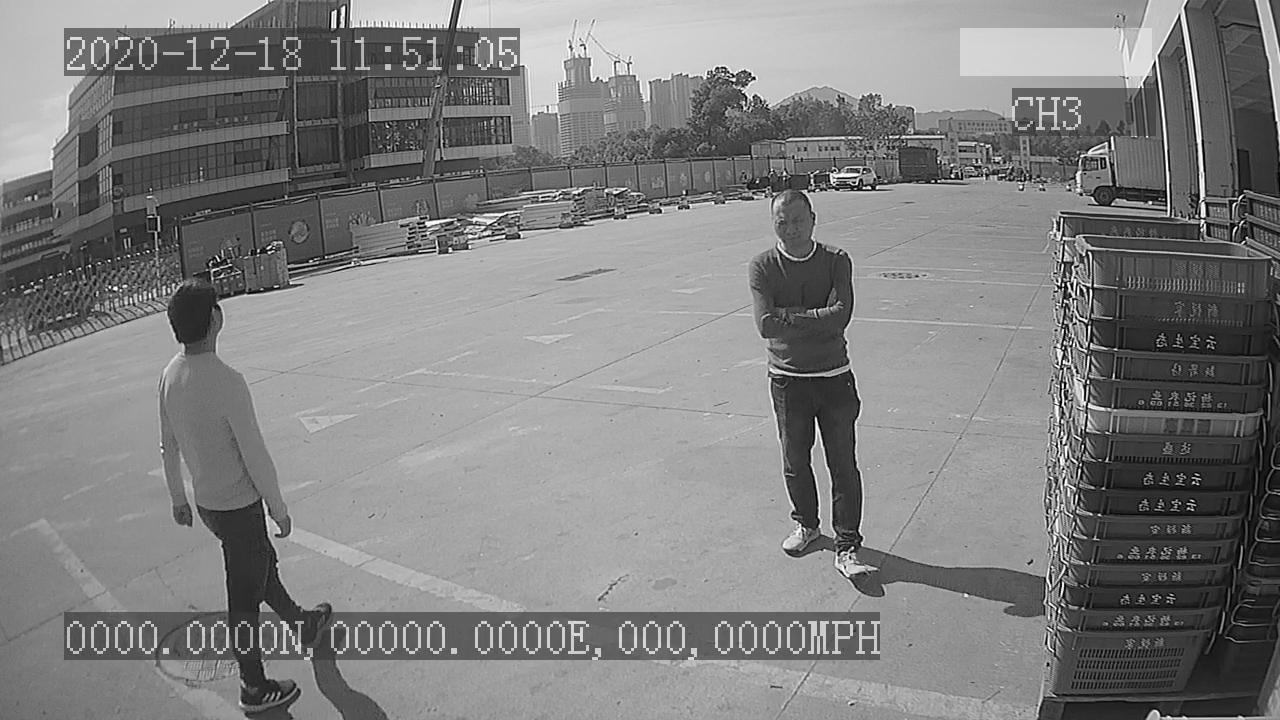person: (738, 181, 881, 583)
